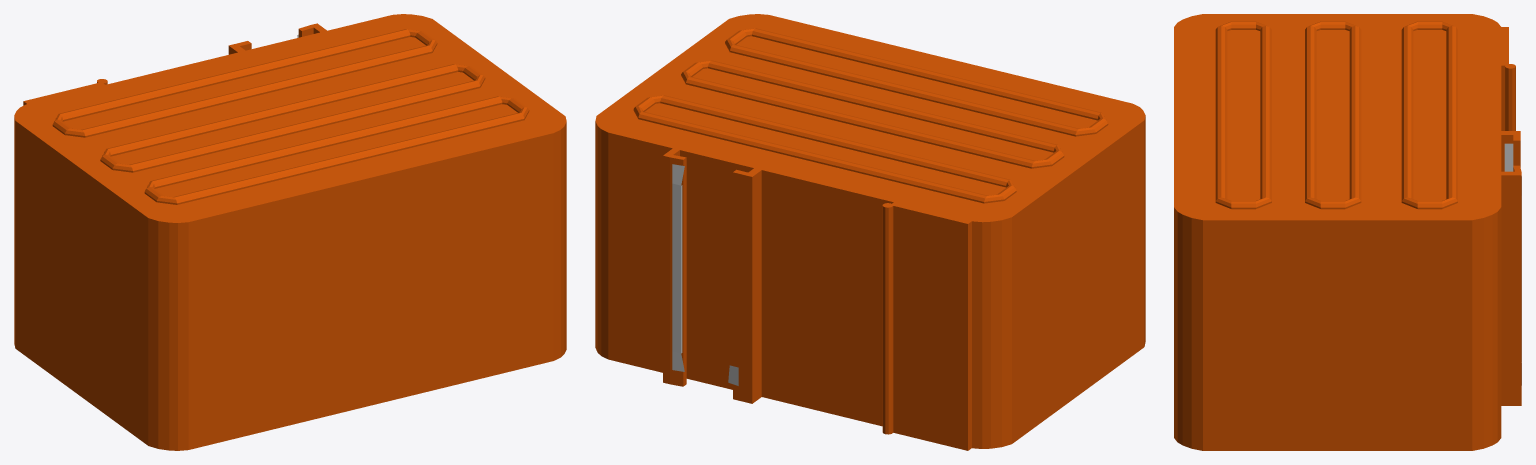
File: MagPK.fbx
3 renders of one model, left to right at view 1: azimuth 30°, elevation 25°; view 2: azimuth 150°, elevation 25°; view 3: azimuth 270°, elevation 25°, orthographic.
Parts seen in each view (by area): view 1: Cylinder; view 2: Cylinder; view 3: Cylinder.
Boxes of the visible parts, x1,y1,x2,y2 form: Cylinder: [14, 14, 566, 450]; Cylinder: [595, 14, 1145, 450]; Cylinder: [1174, 14, 1521, 450].
Size of the model in its own units: 10.07 by 5.51 by 7.18.
